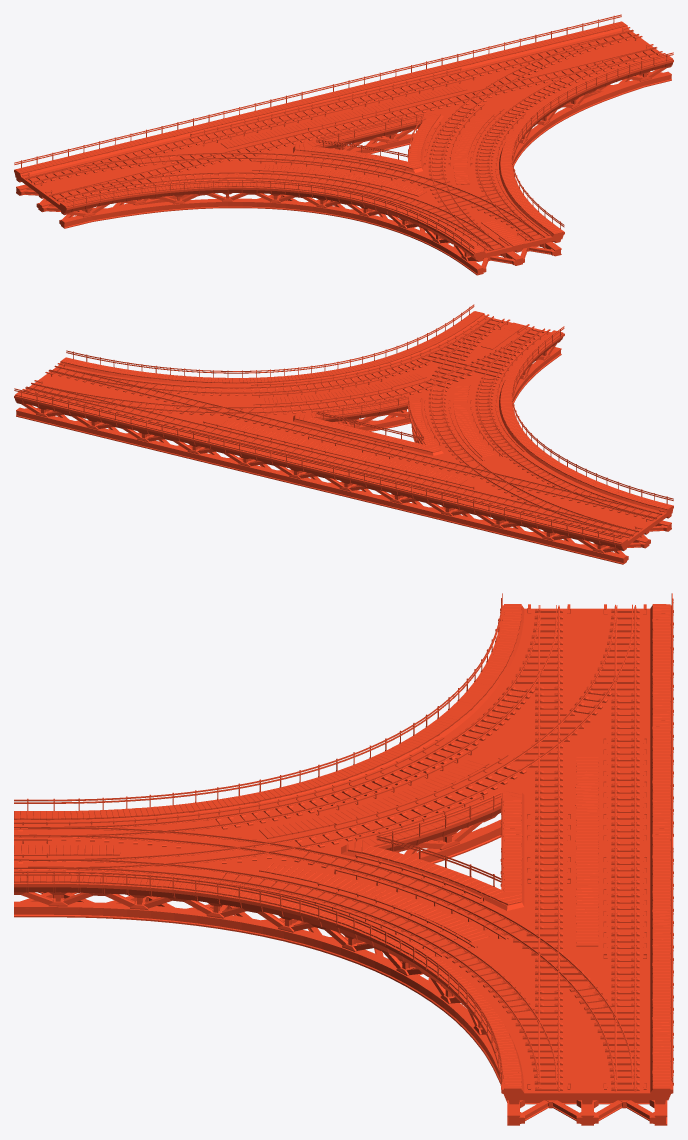
File: SM_Rails_Overground_T_City.fbx
3 renders of one model, top to bottom at view 1: azimuth 30°, elevation 25°; view 2: azimuth 150°, elevation 25°; view 3: azimuth 270°, elevation 25°, orthographic. The views are drawn at different scales.
Visible parts, largest first — view 1: SM_Rails_Overground_T_City; view 2: SM_Rails_Overground_T_City; view 3: SM_Rails_Overground_T_City.
Boxes of the visible parts, bbox=[...] form: SM_Rails_Overground_T_City: bbox=[14, 14, 673, 275]; SM_Rails_Overground_T_City: bbox=[14, 304, 673, 564]; SM_Rails_Overground_T_City: bbox=[14, 593, 673, 1125].
Size of the model in its own units: 90.02 by 4.2 by 51.81.
